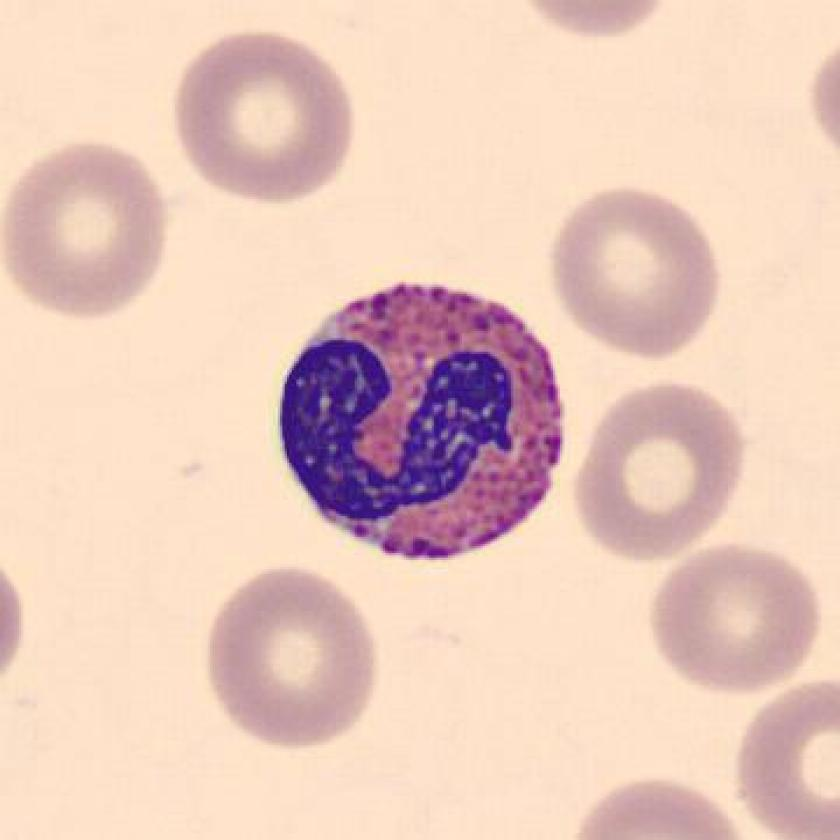eosinophil: (265, 272, 577, 577)
